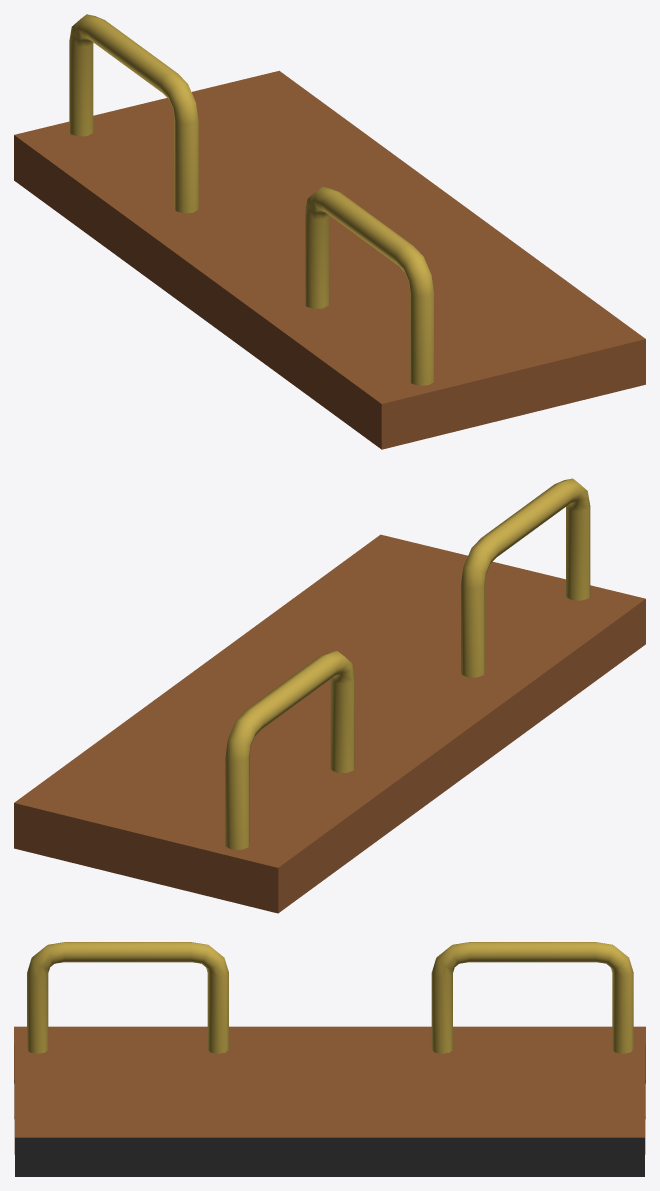
The model's file is Platform.fbx.
The picture shows the model from 3 angles, top to bottom: view 1: azimuth 30°, elevation 25°; view 2: azimuth 150°, elevation 25°; view 3: azimuth 270°, elevation 25°; orthographic projection. The views are drawn at different scales.
Visible parts, largest first — view 1: Circle.017; view 2: Circle.017; view 3: Circle.017.
Boxes of the visible parts, x1,y1,x2,y2 form: Circle.017: (14, 14, 645, 449); Circle.017: (14, 478, 645, 913); Circle.017: (14, 942, 645, 1176).
Bounding box in the file's own units: 1.82 × 1.12 × 4.39.
